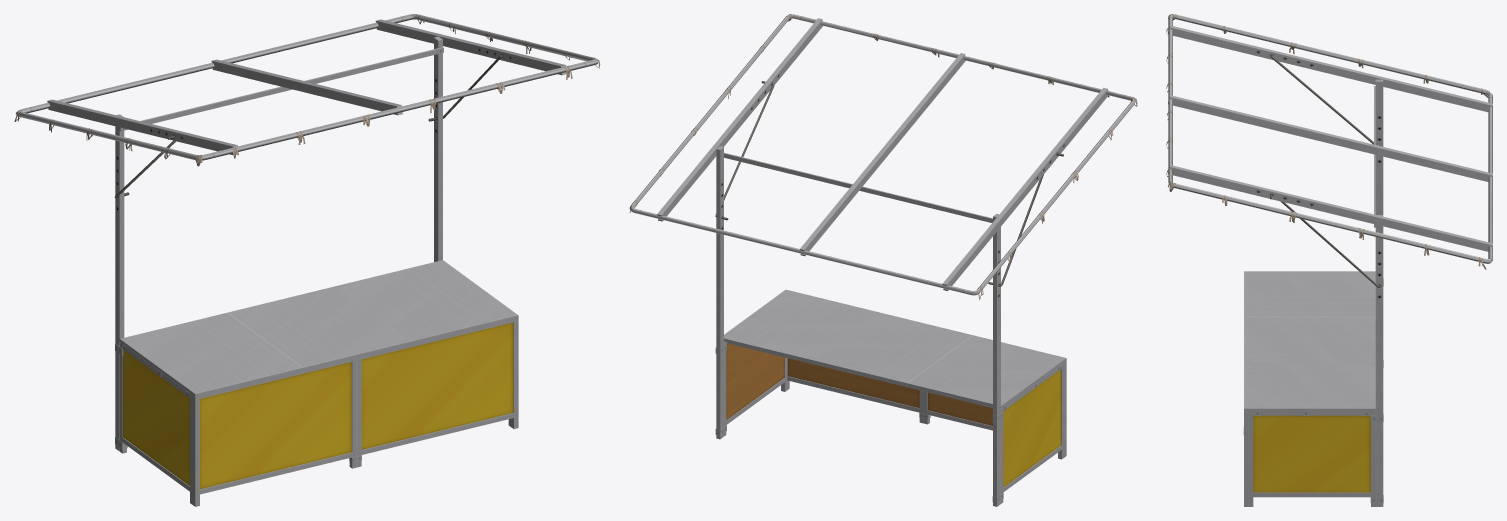
File: jsf_2P_s02_c03_t01.fbx
3 renders of one model, left to right at view 1: azimuth 30°, elevation 25°; view 2: azimuth 150°, elevation 25°; view 3: azimuth 270°, elevation 25°, orthographic. The views are drawn at different scales.
Visible parts, largest first — view 1: Base_s02_c03, Table_2P_s02_t01, Pillar2_s02, Rope_2P_s02; view 2: Pillar2_s02, Table_2P_s02_t01, Base_s02_c03; view 3: Pillar2_s02, Table_2P_s02_t01, Base_s02_c03, Rope_2P_s02.
Part boxes in pixels (bbox=[...]): Base_s02_c03: bbox=[115, 315, 518, 506]; Table_2P_s02_t01: bbox=[119, 260, 517, 397]; Pillar2_s02: bbox=[15, 14, 597, 451]; Rope_2P_s02: bbox=[14, 15, 600, 166]; Pillar2_s02: bbox=[629, 14, 1135, 506]; Table_2P_s02_t01: bbox=[724, 290, 1065, 410]; Base_s02_c03: bbox=[715, 289, 1066, 503]; Pillar2_s02: bbox=[1168, 14, 1492, 506]; Table_2P_s02_t01: bbox=[1245, 271, 1375, 415]; Base_s02_c03: bbox=[1243, 271, 1383, 506]; Rope_2P_s02: bbox=[1166, 14, 1488, 269].
Bounding box in the file's own units: 264 × 244 × 211.
